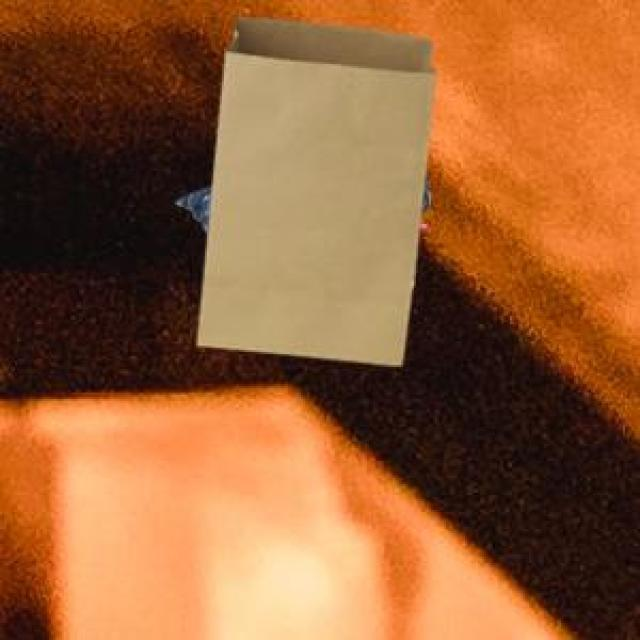miscellaneous trash: (173, 181, 365, 228)
paper: (194, 15, 431, 361)
